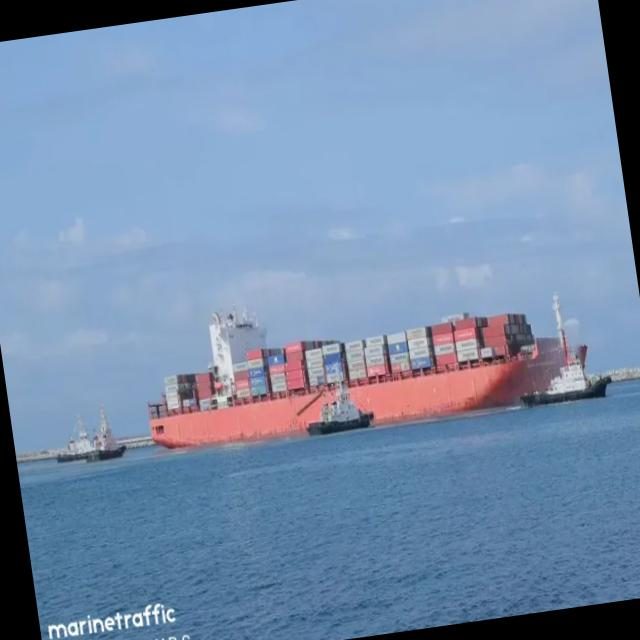Cargo: (148, 313, 570, 448), (575, 346, 586, 366)
Tug: (522, 297, 611, 405), (307, 382, 372, 435), (86, 407, 125, 461), (59, 419, 96, 461)
